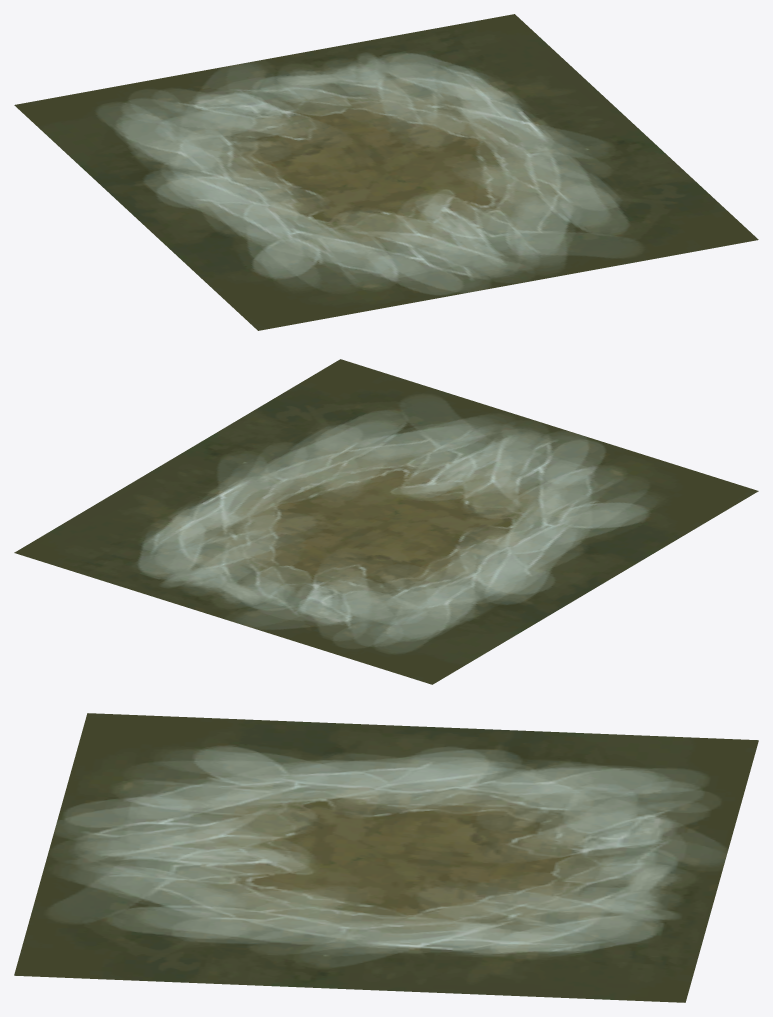
Rendered from rockydecal_03.fbx.
The picture shows the model from 3 angles, top to bottom: view 1: azimuth 30°, elevation 25°; view 2: azimuth 150°, elevation 25°; view 3: azimuth 270°, elevation 25°; orthographic projection. The views are drawn at different scales.
Visible parts, largest first — view 1: obj0.005; view 2: obj0.005; view 3: obj0.005.
Boxes of the visible parts, x1,y1,x2,y2 form: obj0.005: [14, 14, 758, 330]; obj0.005: [14, 359, 758, 684]; obj0.005: [14, 713, 758, 1002].
Size of the model in its own units: 8.98 by 3.73e-06 by 9.76.
